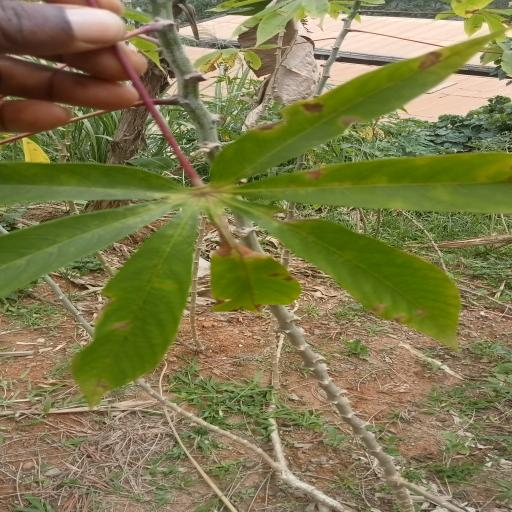Cassava_Root_Rot: (14, 48, 512, 430)
